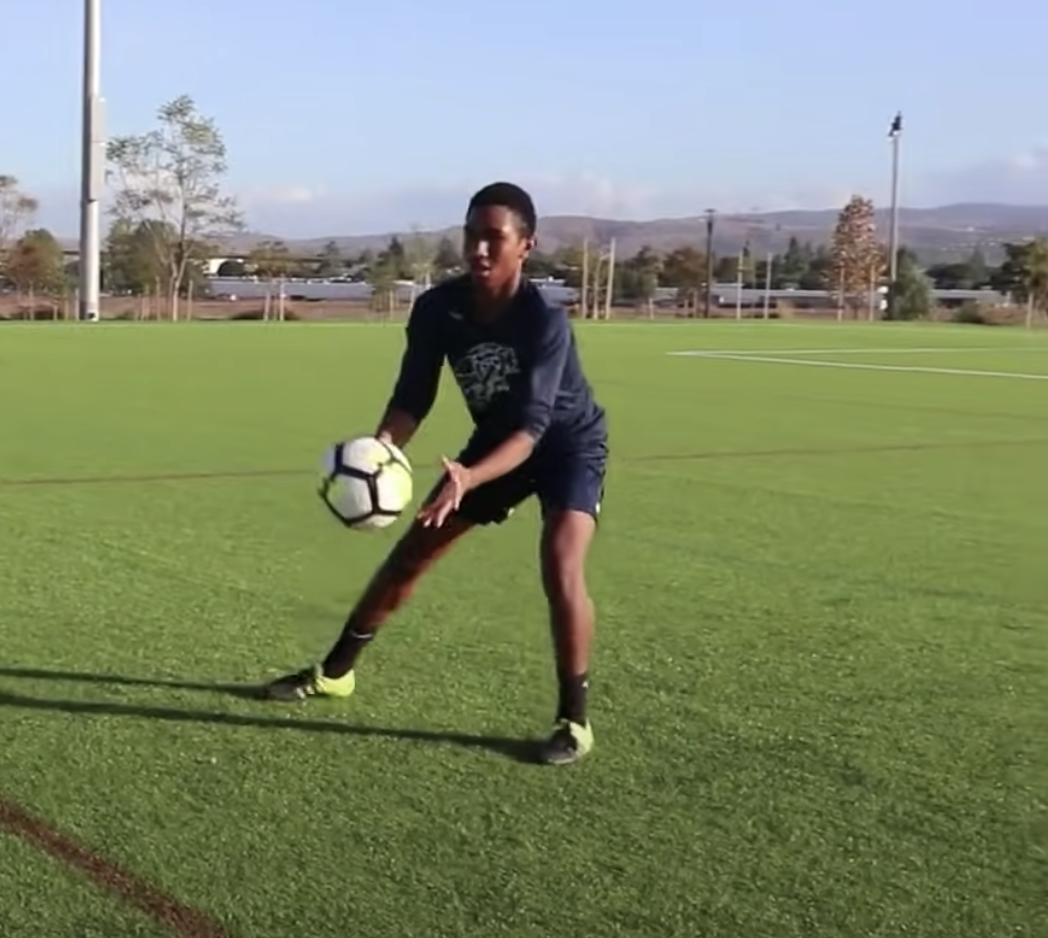ball: (318, 436, 410, 530)
foot: (259, 656, 357, 707), (546, 706, 597, 769)
person: (274, 182, 612, 766)
